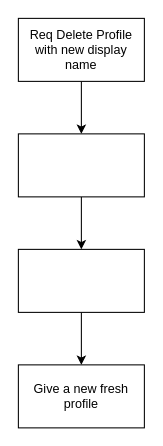
This 163x446 diagram has some shape labels left out. Each missing label, with the centre of its shape:
"Delete Games Created" goes at (x=80, y=165).
"Delete Profile" goes at (x=80, y=280).
